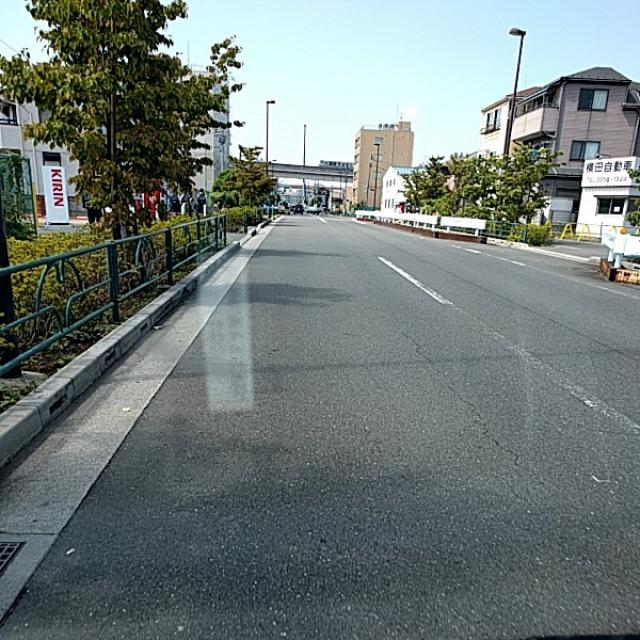pothole: (428, 364, 507, 485)
